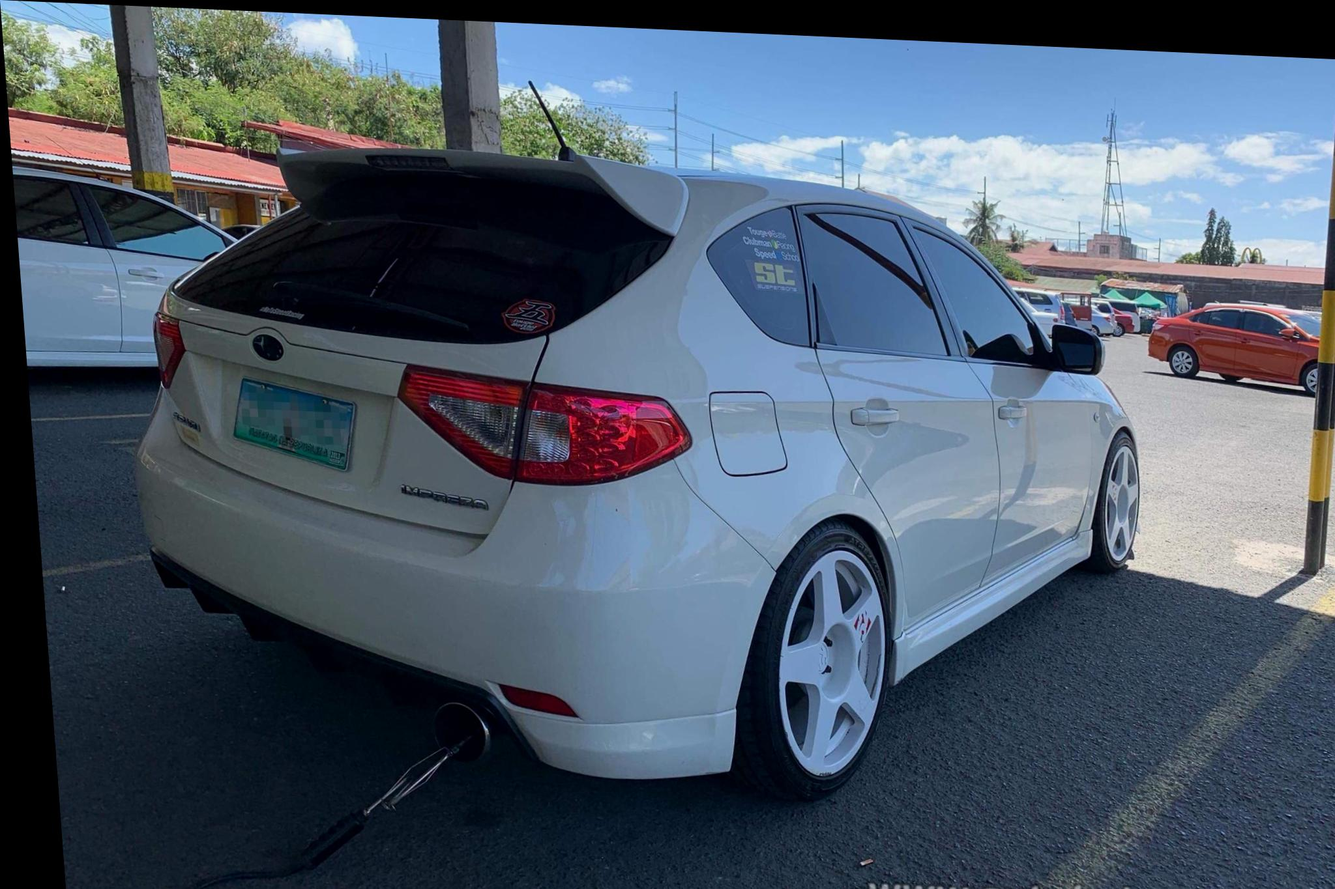License_Plate: (223, 360, 372, 498)
